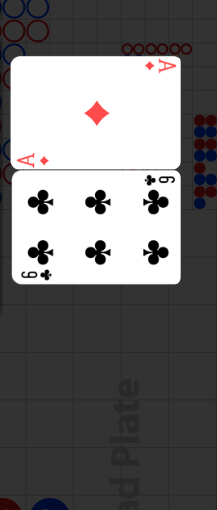6C: (20, 267, 55, 282)
AD: (142, 59, 176, 75)
